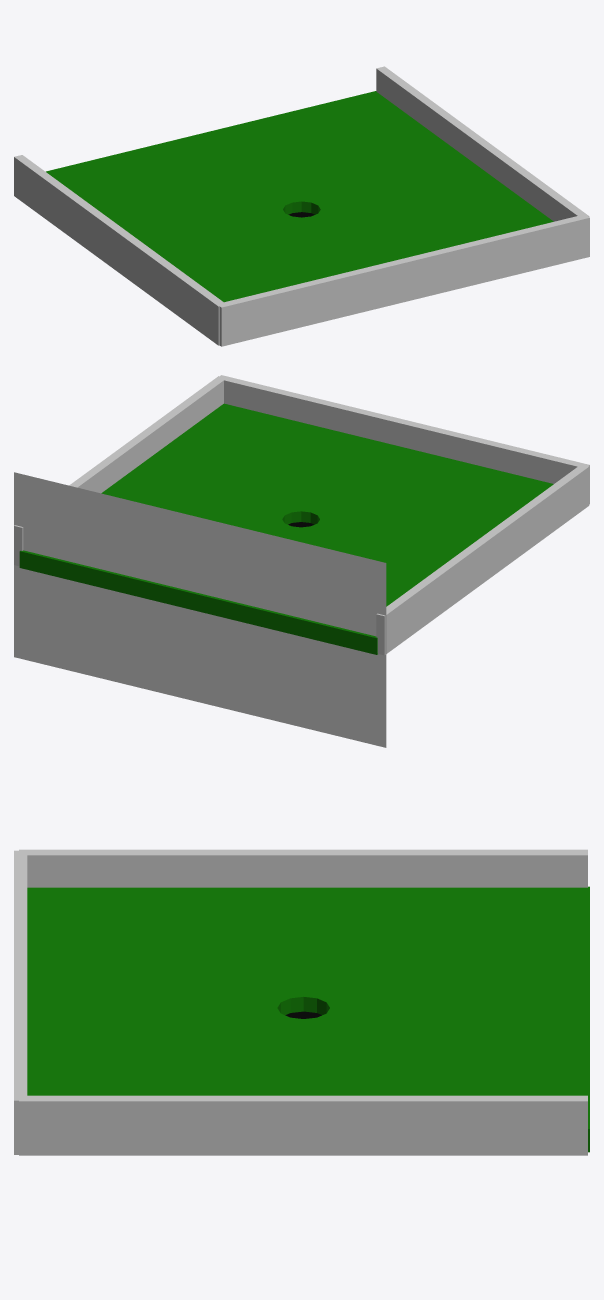
The model's file is hole.gltf.
The picture shows the model from 3 angles, top to bottom: view 1: azimuth 30°, elevation 25°; view 2: azimuth 150°, elevation 25°; view 3: azimuth 270°, elevation 25°; orthographic projection. The views are drawn at different scales.
Visible parts, largest first — view 1: Cube, Cube.003, Cube.001, Cube.002; view 2: obj_snap.001, Cube, Cube.001, Cube.003, Cube.002; view 3: Cube, Cube.002, Cube.001, Cube.003.
Part boxes in pixels (x1,y1,x2,y2): Cube: (46, 91, 553, 302); Cube.003: (217, 214, 589, 346); Cube.001: (14, 155, 226, 345); Cube.002: (376, 66, 589, 221); obj_snap.001: (14, 472, 386, 747); Cube: (19, 403, 553, 654); Cube.001: (376, 464, 589, 655); Cube.003: (218, 375, 589, 504); Cube.002: (14, 376, 225, 566); Cube: (27, 886, 589, 1152); Cube.002: (19, 1095, 587, 1155); Cube.001: (19, 849, 587, 887); Cube.003: (14, 850, 27, 1154).
Size of the model in its own units: 4.21 by 2 by 4.06.
